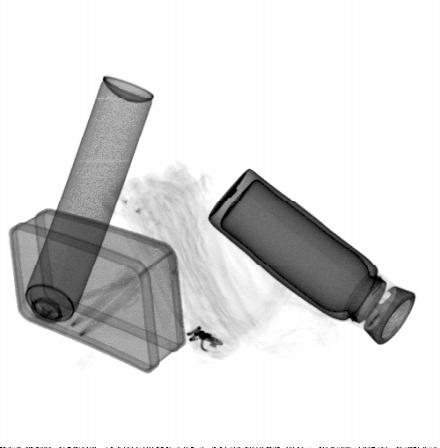Sprayer: (12, 74, 156, 355)
